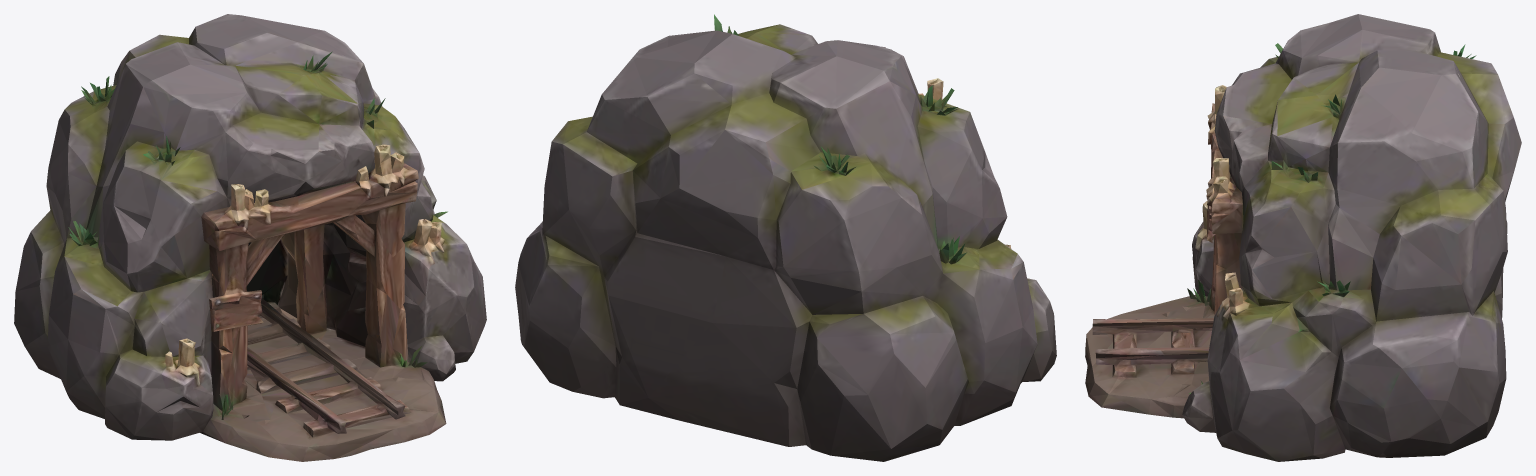
Rendered from oc_mine.glb.
The picture shows the model from 3 angles, left to right: view 1: azimuth 30°, elevation 25°; view 2: azimuth 150°, elevation 25°; view 3: azimuth 270°, elevation 25°; orthographic projection. The views are drawn at different scales.
Parts seen in each view (by area): view 1: W_mine_entrance; view 2: W_mine_entrance; view 3: W_mine_entrance.
Boxes of the visible parts, bbox=[...] form: W_mine_entrance: bbox=[14, 14, 486, 461]; W_mine_entrance: bbox=[515, 14, 1056, 461]; W_mine_entrance: bbox=[1085, 14, 1521, 461].
Size of the model in its own units: 7.5 by 5.55 by 6.92.
1 material, 1 textured.
